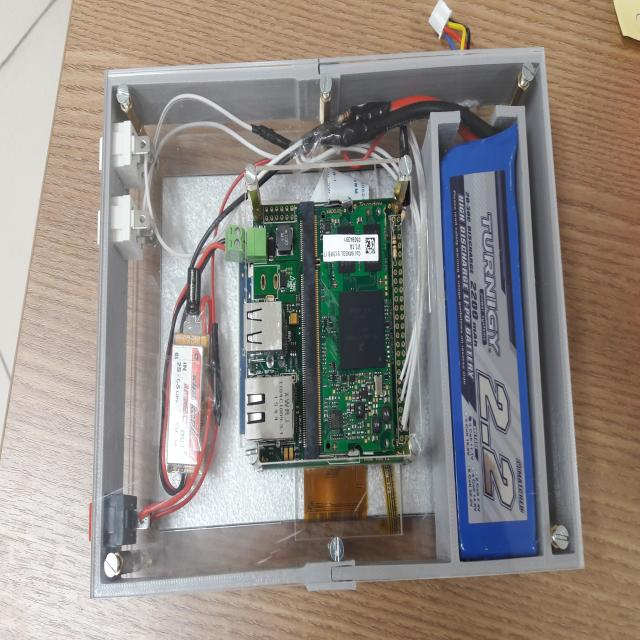som: (309, 201, 404, 454)
